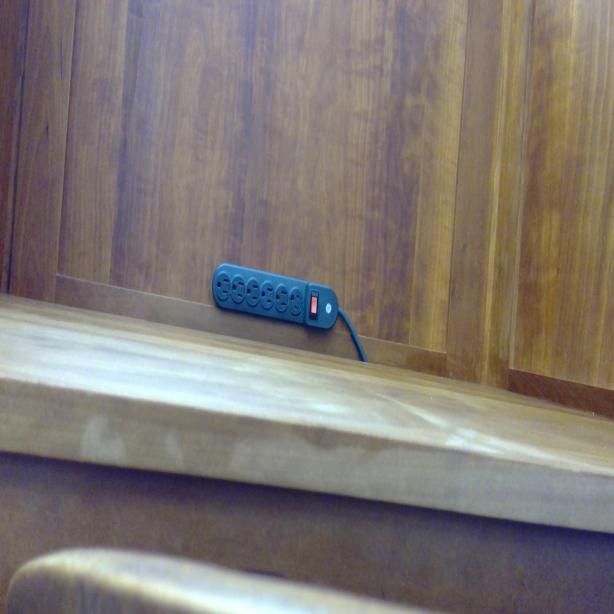typeb: (232, 275, 247, 304), (290, 285, 305, 314), (275, 286, 290, 314), (246, 275, 260, 303), (261, 280, 274, 310), (218, 274, 232, 300)
